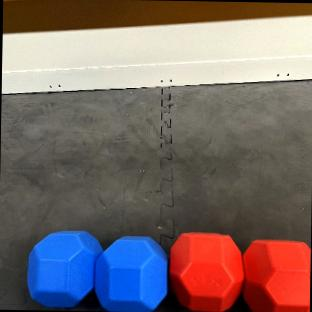V5_BLUE: (27, 230, 165, 311)
V5_RED: (169, 232, 310, 312)
